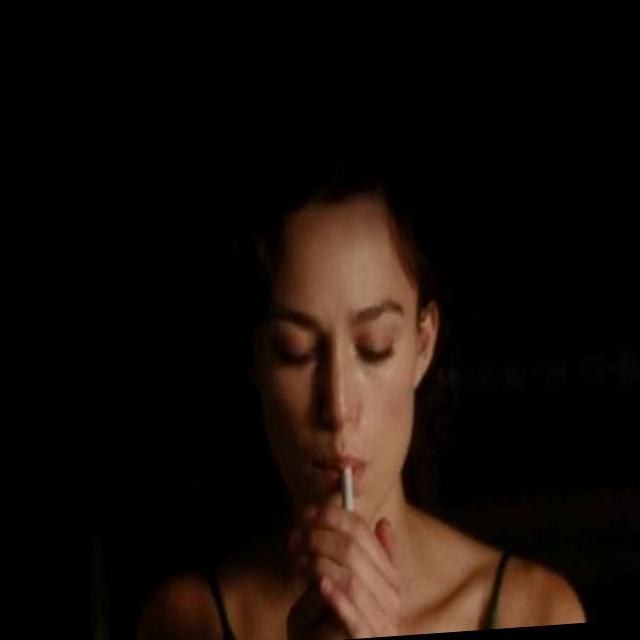cigarette: (344, 465, 356, 512)
